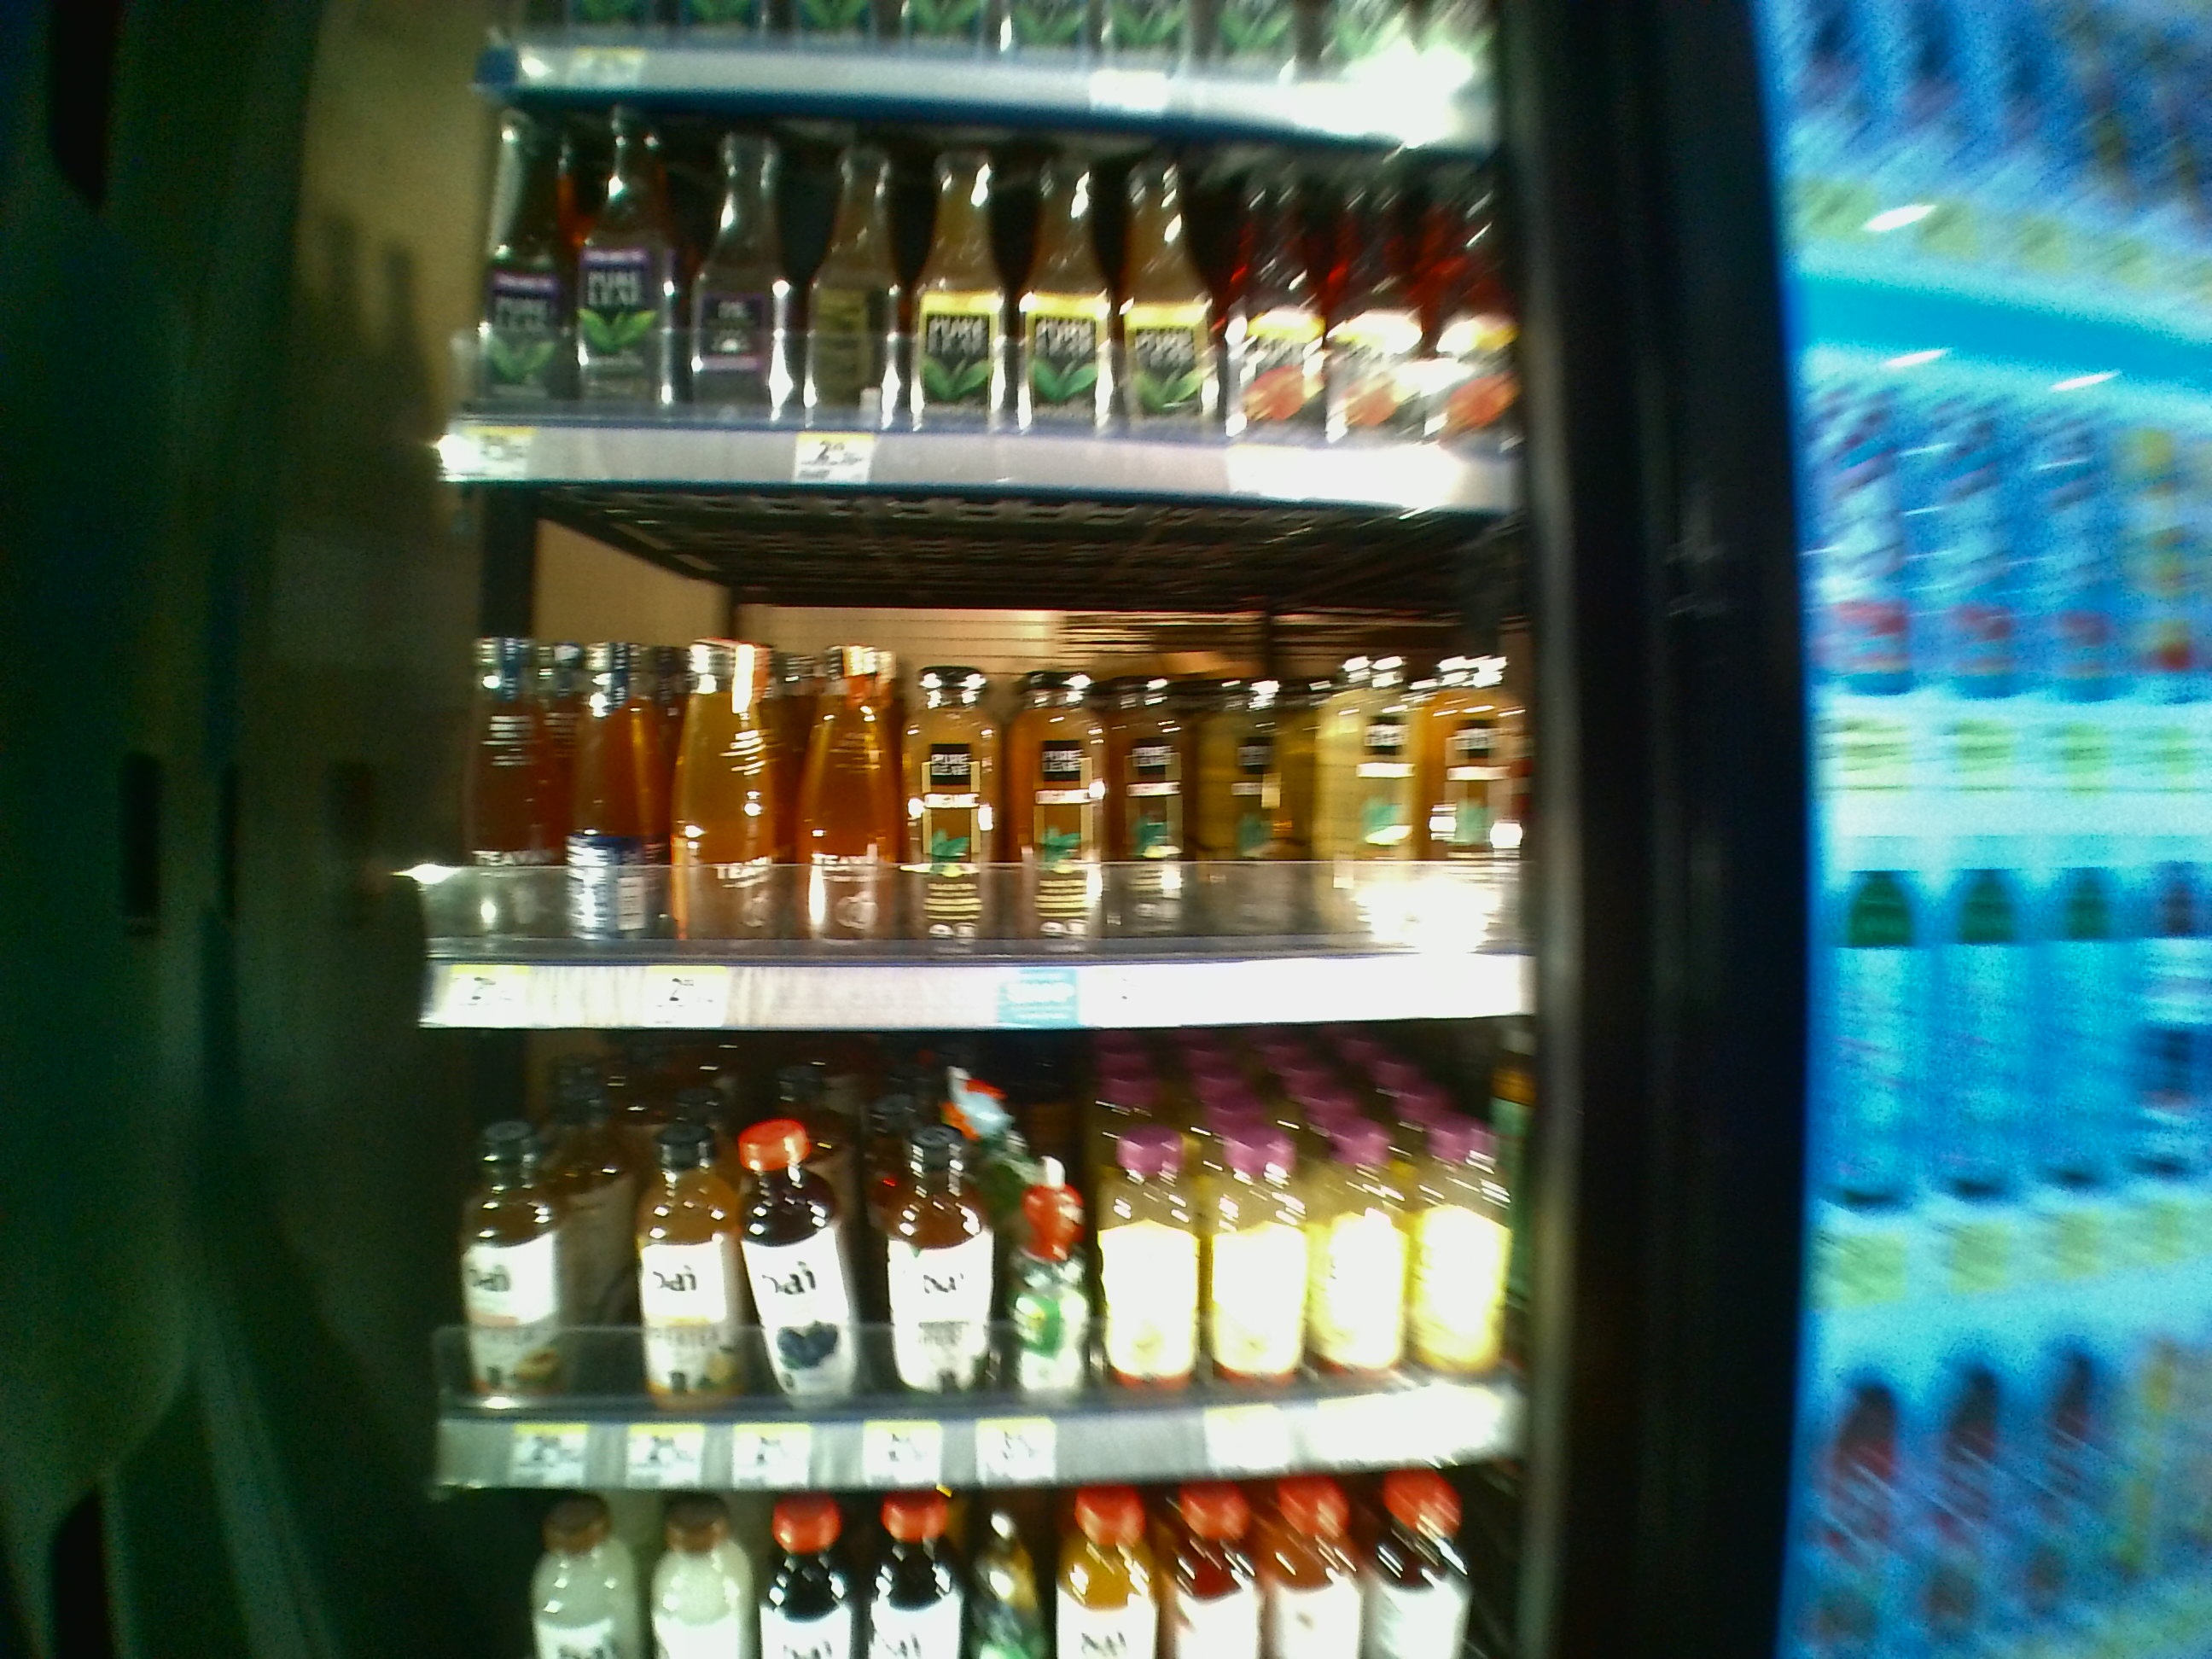shelf: (425, 505, 1536, 1025), (425, 1037, 1543, 1493), (434, 89, 1524, 486)
